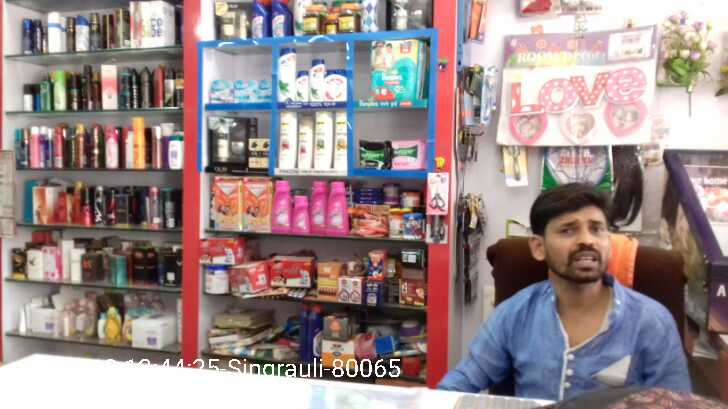venus: (234, 80, 258, 101), (210, 81, 232, 102), (261, 79, 271, 101)
